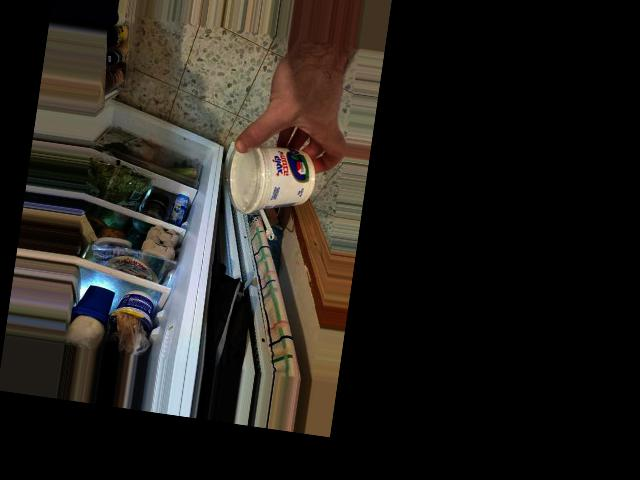cotage: (225, 133, 316, 222)
